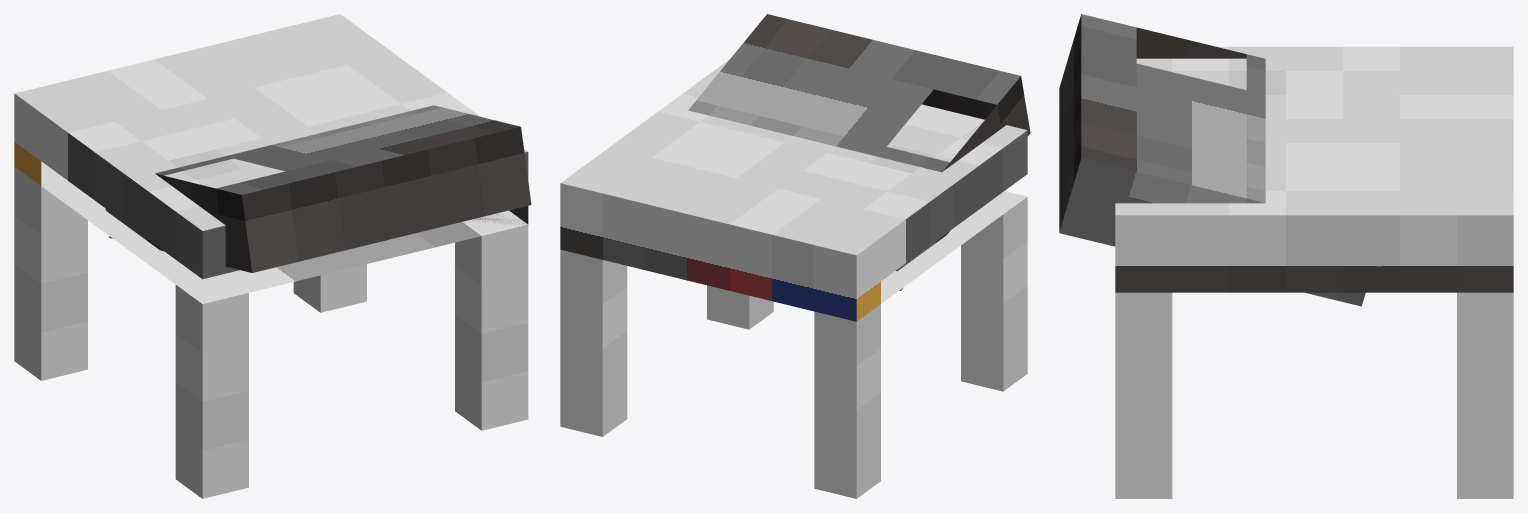
The model's file is security_station.obj.
3 renders of one model, left to right at view 1: azimuth 30°, elevation 25°; view 2: azimuth 150°, elevation 25°; view 3: azimuth 270°, elevation 25°, orthographic. The views are drawn at different scales.
Bounding box in the file's own units: 0.875 × 0.796 × 0.9981.
